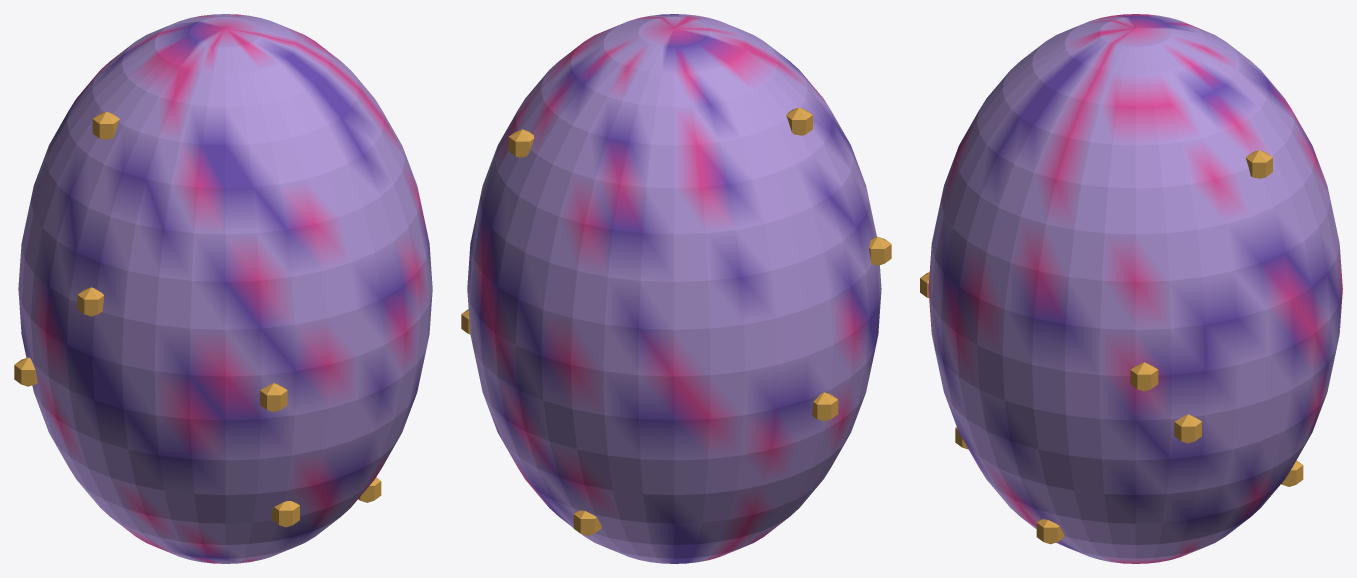
File: cosmic_egg.glb
3 renders of one model, left to right at view 1: azimuth 30°, elevation 25°; view 2: azimuth 150°, elevation 25°; view 3: azimuth 270°, elevation 25°, orthographic.
Visible parts, largest first — view 1: cosmic_egg; view 2: cosmic_egg; view 3: cosmic_egg.
Boxes of the visible parts, box(x1,y1,x2,y2) form: cosmic_egg: box(14, 14, 432, 563); cosmic_egg: box(461, 14, 891, 563); cosmic_egg: box(920, 14, 1342, 563).
Bounding box in the file's own units: 1.49 × 1.97 × 1.44.
